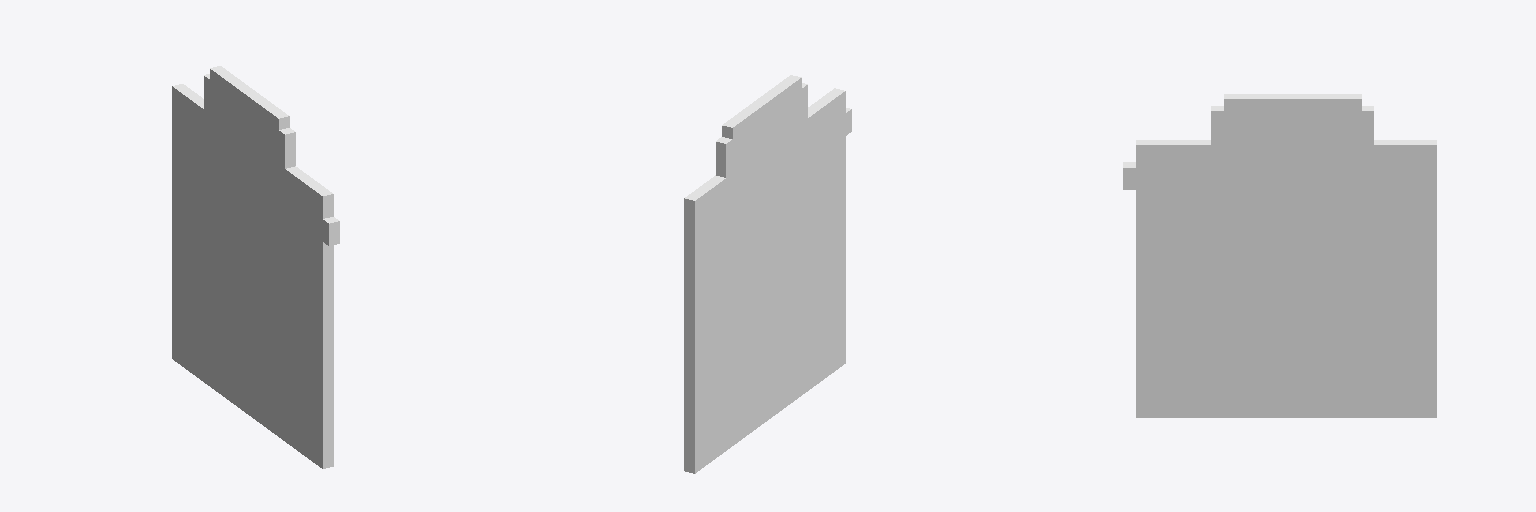
File: ChaseBotActive2D.obj
The picture shows the model from 3 angles: view 1: azimuth 30°, elevation 25°; view 2: azimuth 150°, elevation 25°; view 3: azimuth 270°, elevation 25°; orthographic projection.
Parts seen in each view (by area): view 1: object 1; view 2: object 1; view 3: object 1.
Boxes of the visible parts, x1,y1,x2,y2 form: object 1: [172, 66, 339, 468]; object 1: [684, 75, 851, 473]; object 1: [1123, 94, 1436, 417].
Size of the model in its own units: 0.1 by 2.8 by 2.5.